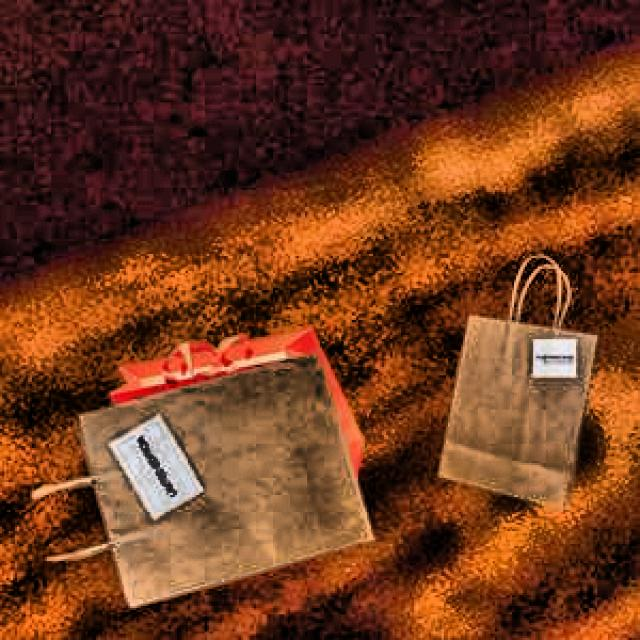Paper-bag: (21, 316, 382, 610), (418, 239, 610, 509)
